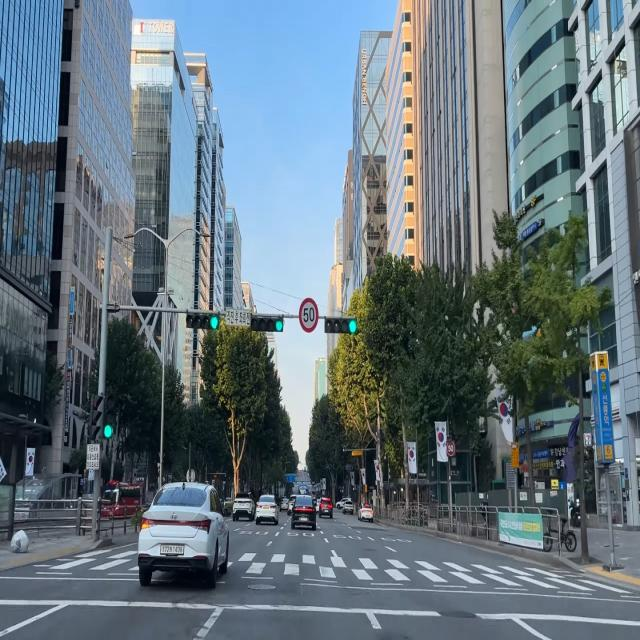Green Light: (208, 314, 218, 330), (348, 318, 357, 334), (274, 318, 283, 332)
